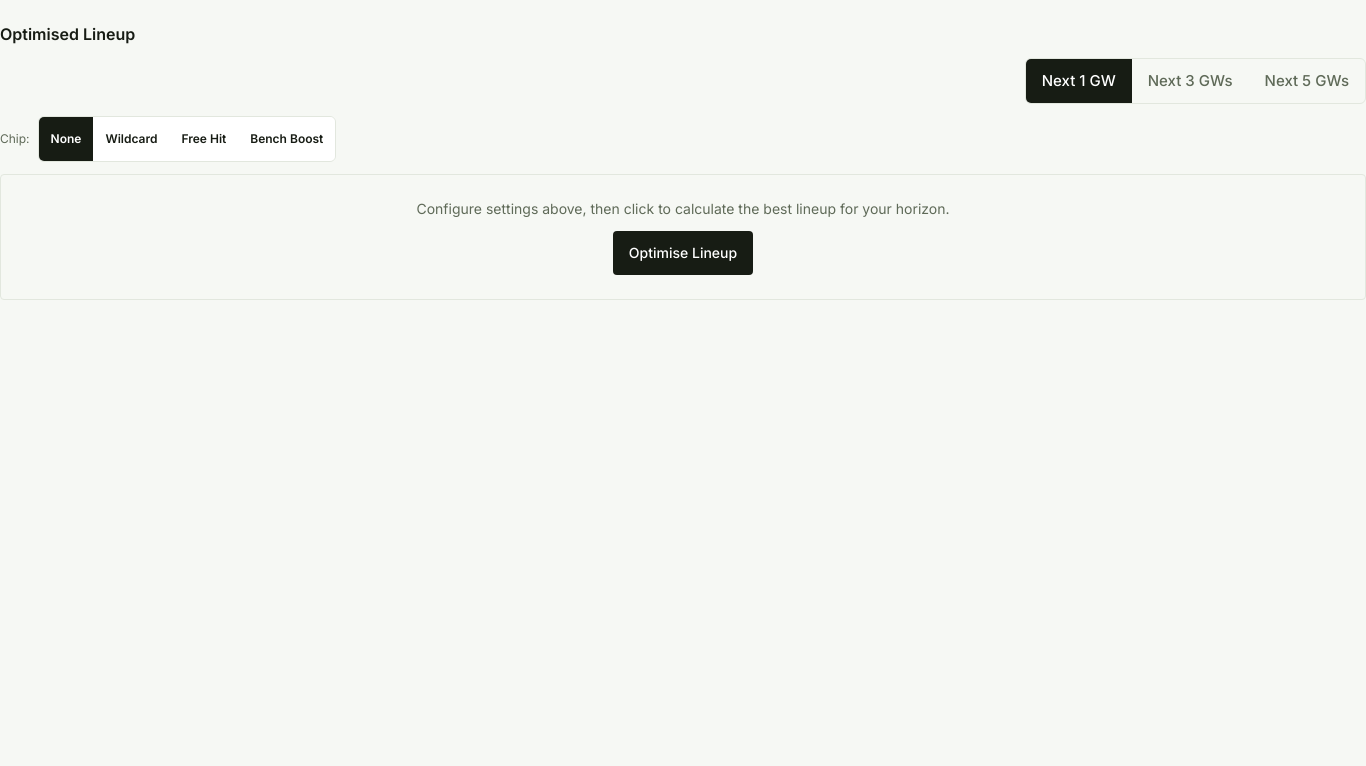
it: Phase 44: OptimiserPanel (comparison table) › CMP-01 comparison table renders › renders comparison-table and all 5 section headers when lineup is valid
The width and height of the screenshot is (1366, 766).
Click the button with test id "optimise-button": (683, 253) [613, 231, 753, 275]
(page scrolled)
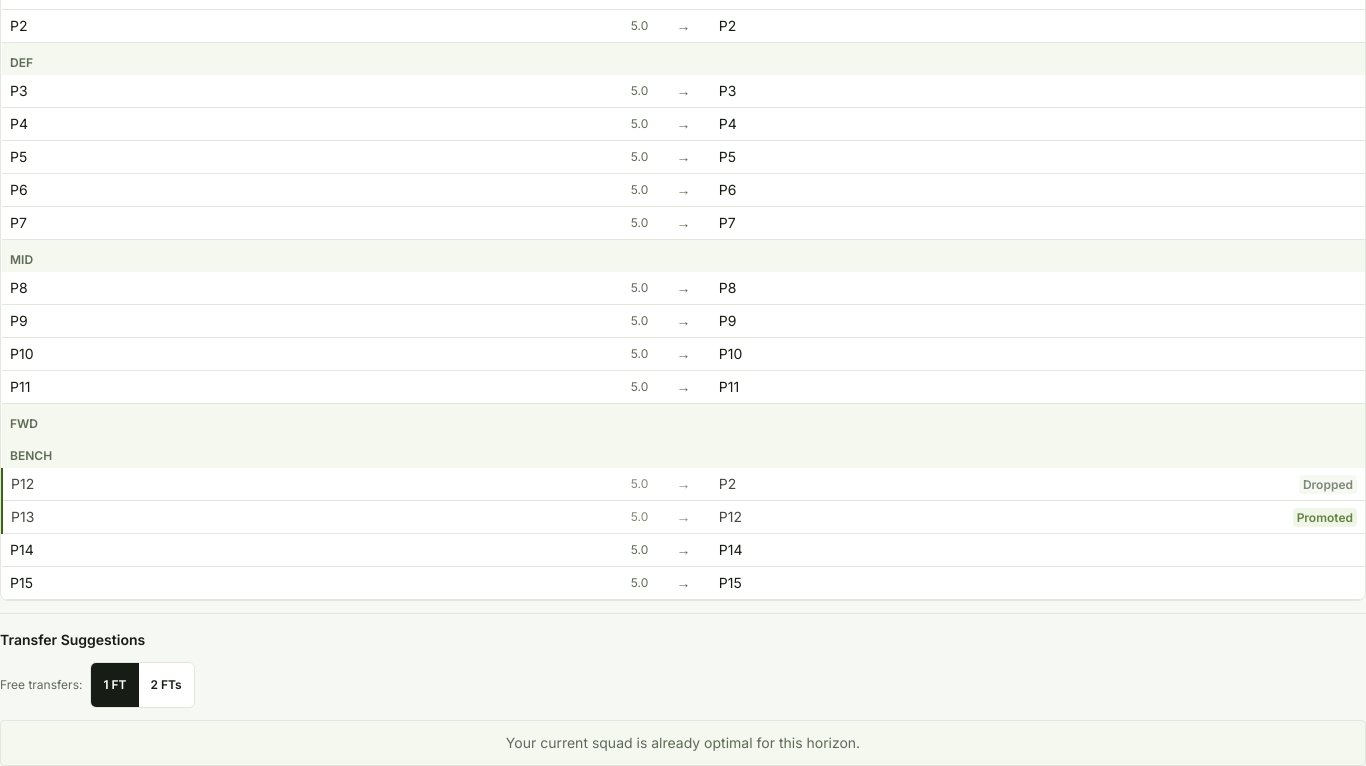
Expected: the cell with test id "section-header-def" is shown, [2, 42, 1365, 75]
Expected: the cell with test id "section-header-mid" is shown, [2, 240, 1365, 272]
Expected: the cell with test id "section-header-fwd" is shown, [2, 404, 1365, 436]
